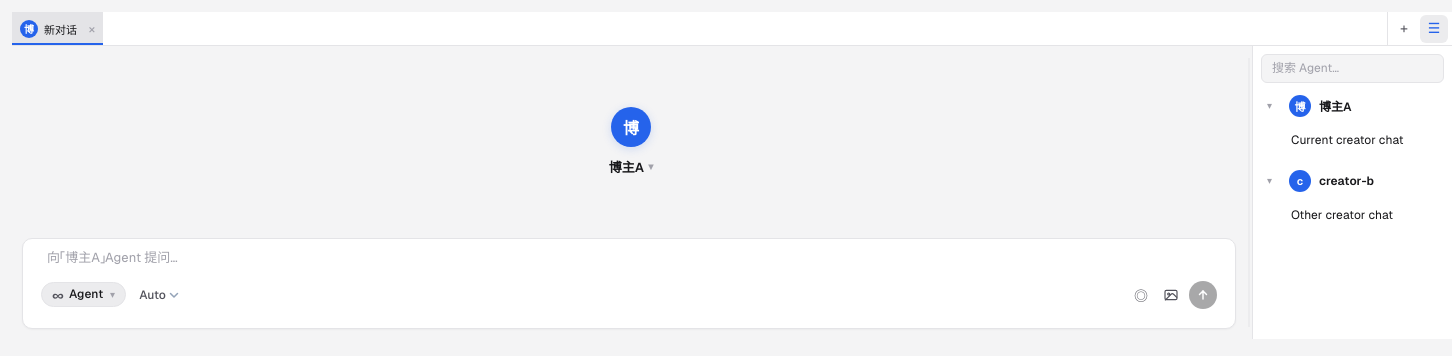
Test case: Agent pane acceptance (A5/A6/A10) › A6: active turn shows phase label without expandable thinking
This screenshot has width=1452, height=356.
Click the button "Current creator chat": click(1350, 140) [1291,132,1410,148]
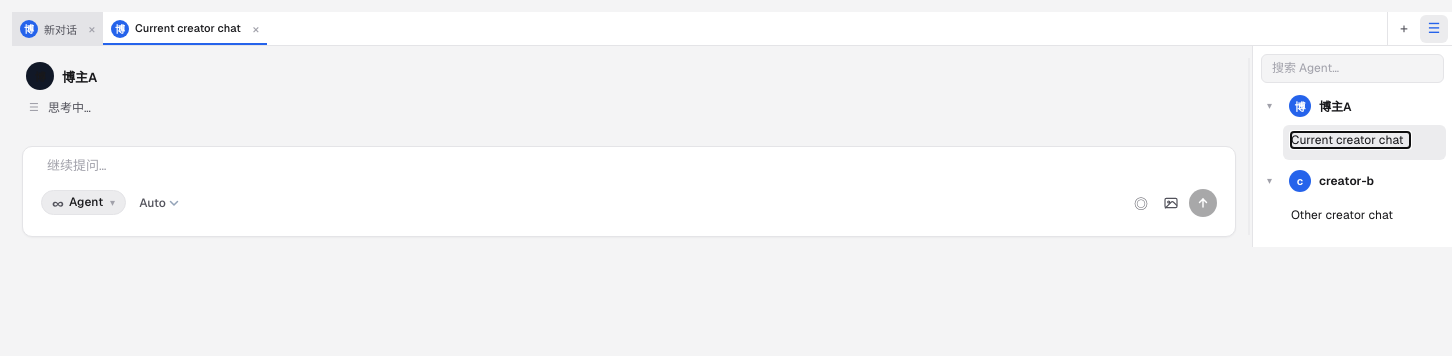
Result: the text "思考中…" is shown at [48,98,91,116]
